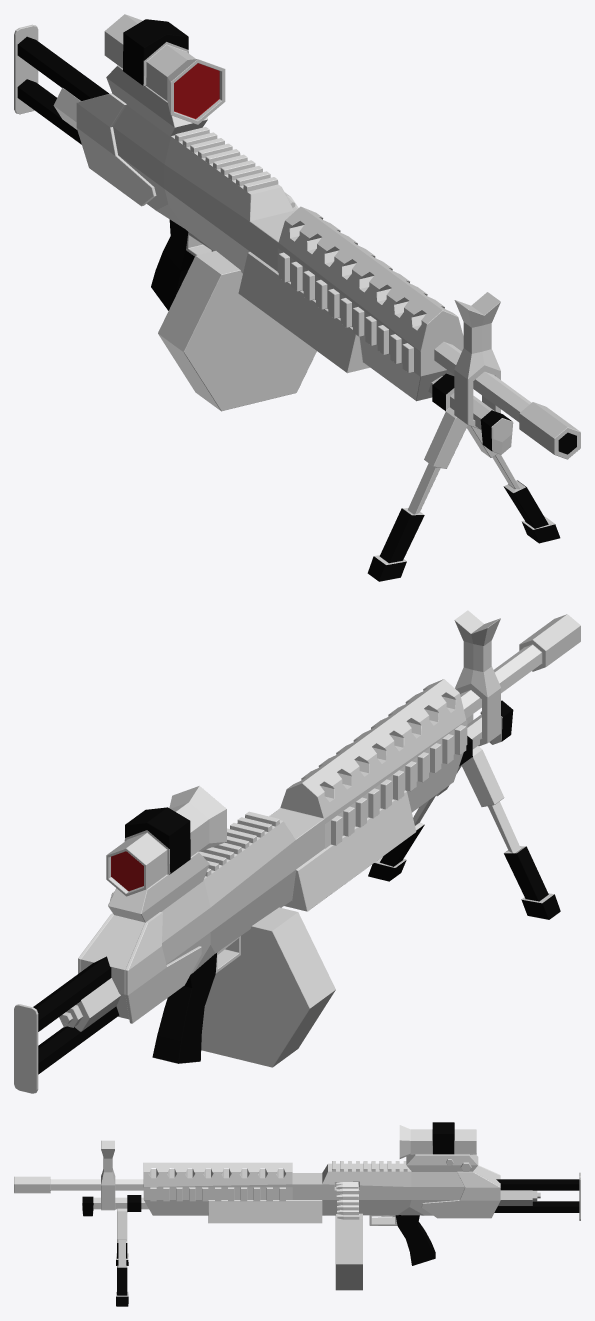
The model's file is Weap B.fbx.
3 views of the same model, one above another, from view 1: azimuth 30°, elevation 25°; view 2: azimuth 150°, elevation 25°; view 3: azimuth 270°, elevation 25° (orthographic). The views are drawn at different scales.
Parts seen in each view (by area): view 1: Cube; view 2: Cube; view 3: Cube.
Boxes of the visible parts, bbox=[...] form: Cube: bbox=[14, 14, 580, 581]; Cube: bbox=[14, 610, 580, 1093]; Cube: bbox=[14, 1122, 580, 1306].
Bounding box in the file's own units: 59.52 × 95.45 × 308.
